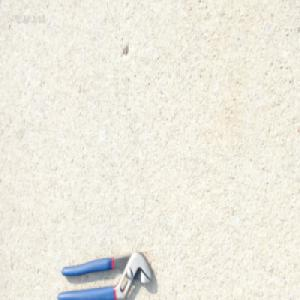Pliers: (55, 248, 153, 300)
